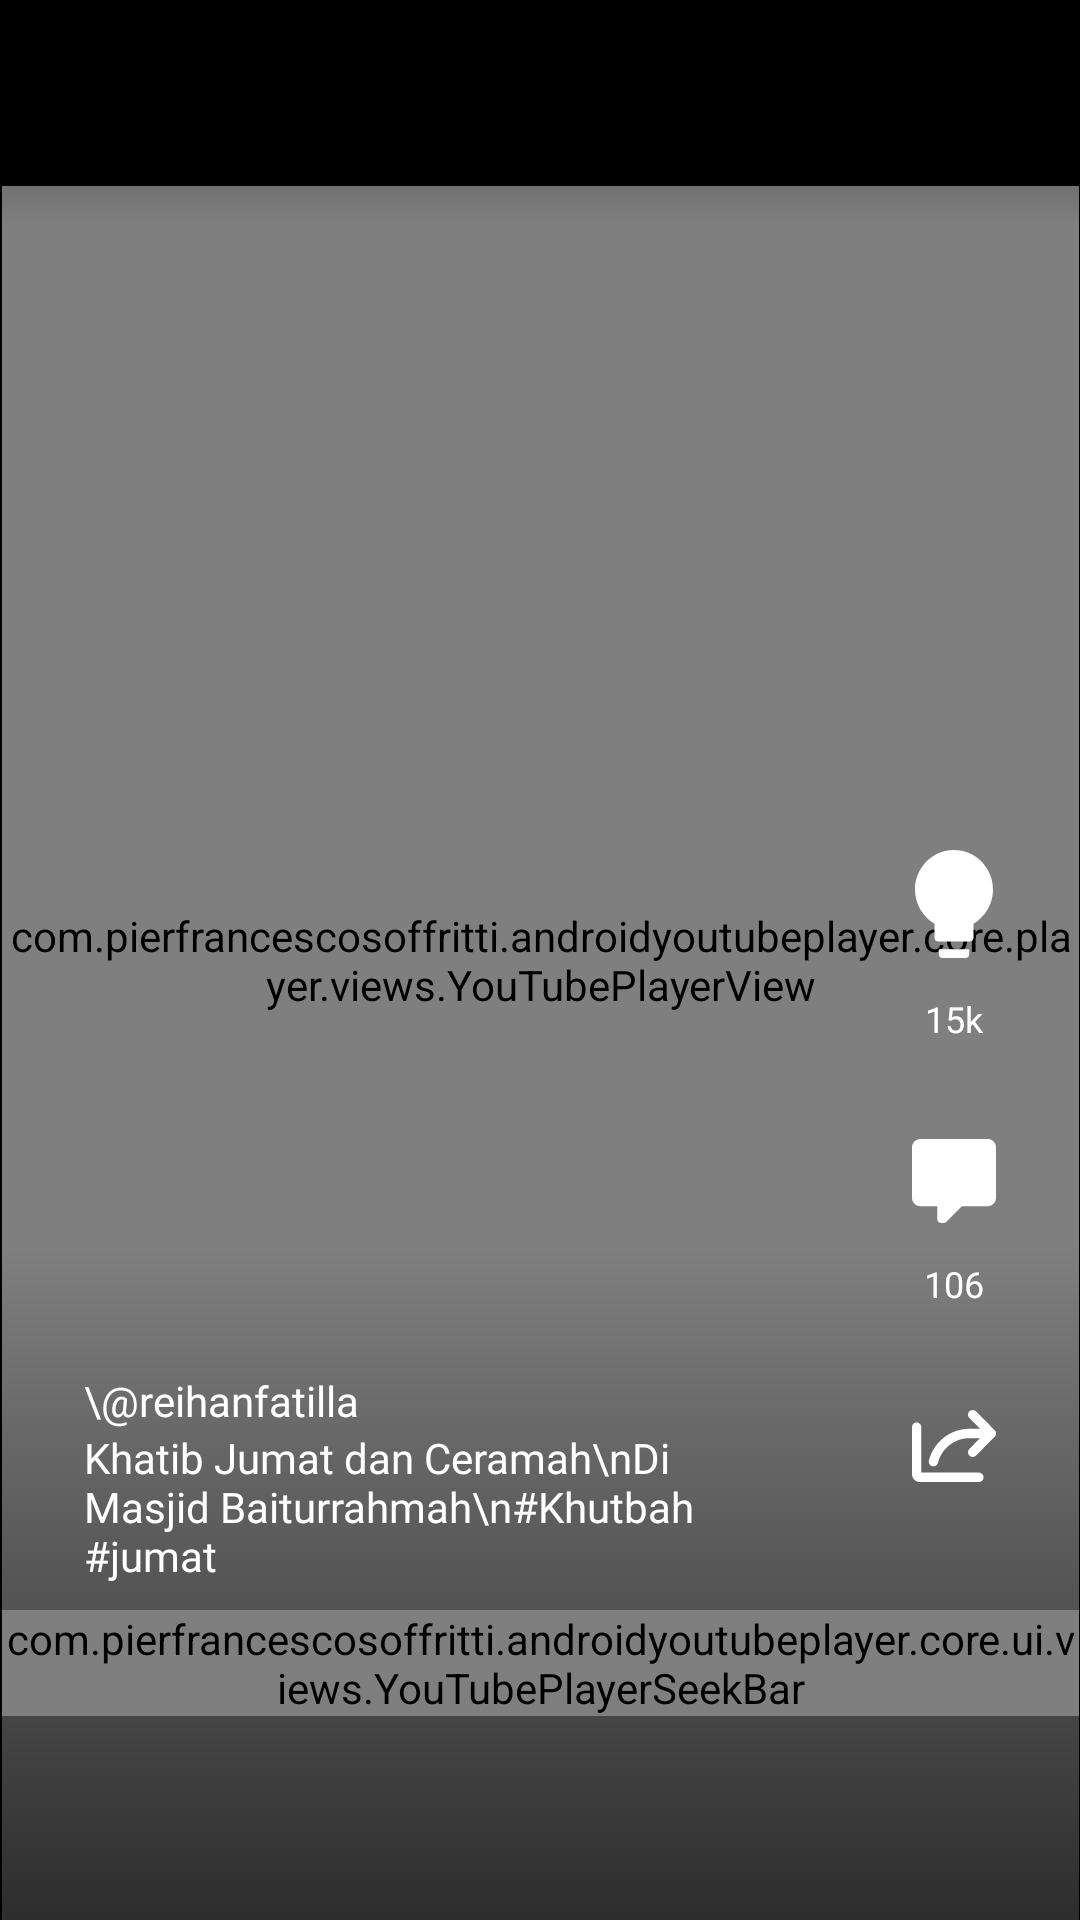

Icon bounding boxes for this 1080x1920 phone screenshot, format (x1,y1,x2,y2):
comments: (912,1139,996,1223)
share: (912,1410,996,1482)
